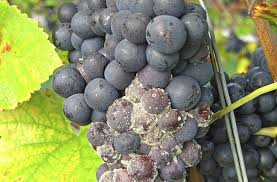Black grapes: (51, 2, 219, 182)
